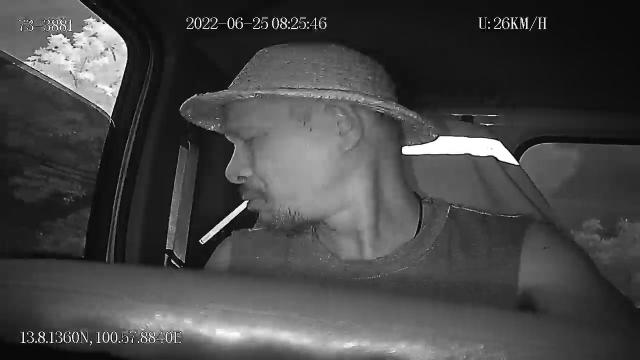Cigarette: (198, 197, 250, 247)
